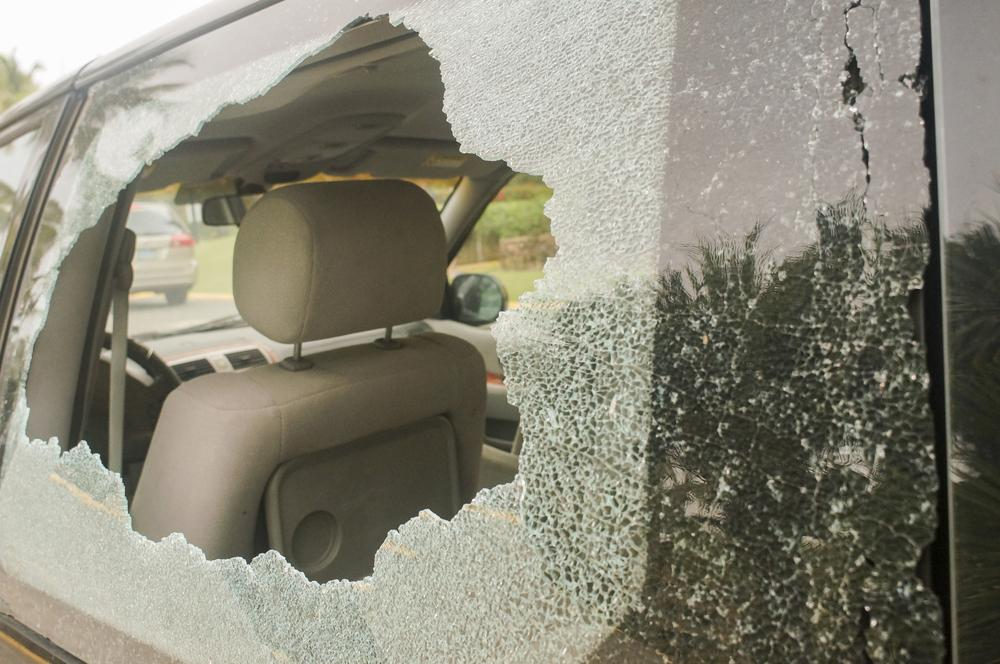glass shatter: (0, 0, 949, 664)
